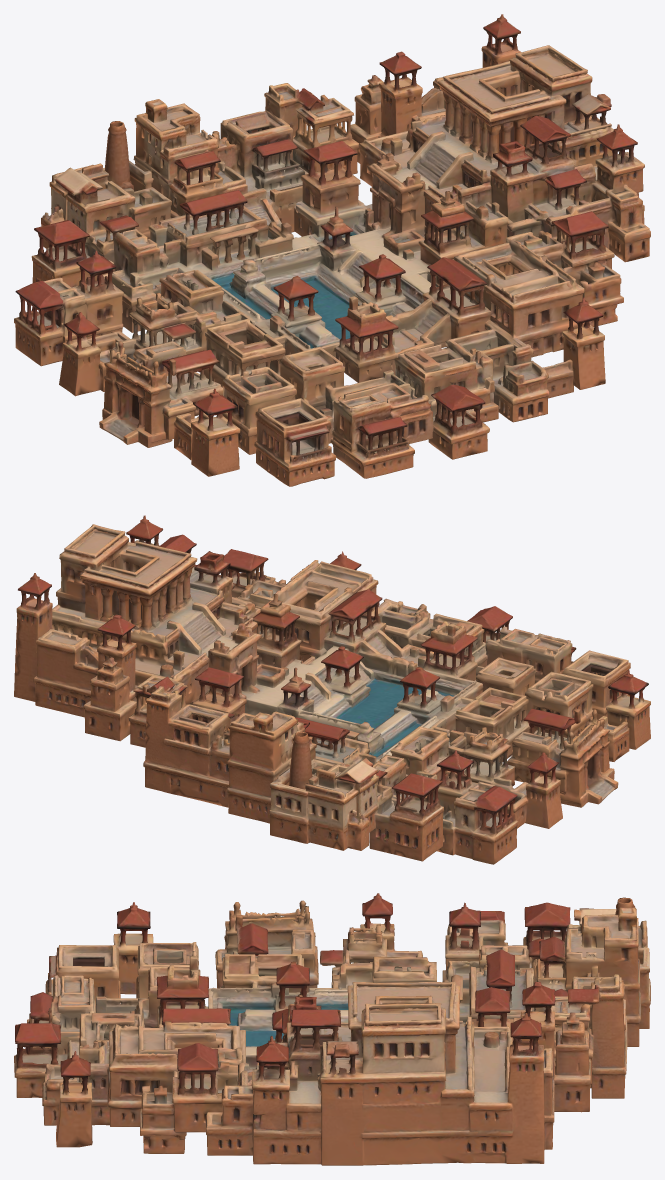
Rendered from Ancient City (South Asian).fbx.
3 views of the same model, one above another, from view 1: azimuth 30°, elevation 25°; view 2: azimuth 150°, elevation 25°; view 3: azimuth 270°, elevation 25° (orthographic). The views are drawn at different scales.
Visible parts, largest first — view 1: tripo_node_8f390d92; view 2: tripo_node_8f390d92; view 3: tripo_node_8f390d92.
Boxes of the visible parts, left/top/right/bottom form: tripo_node_8f390d92: left=14, top=14, right=650, bottom=486; tripo_node_8f390d92: left=14, top=515, right=650, bottom=864; tripo_node_8f390d92: left=14, top=893, right=650, bottom=1165.
Size of the model in its own units: 1 by 0.3773 by 0.9659.
